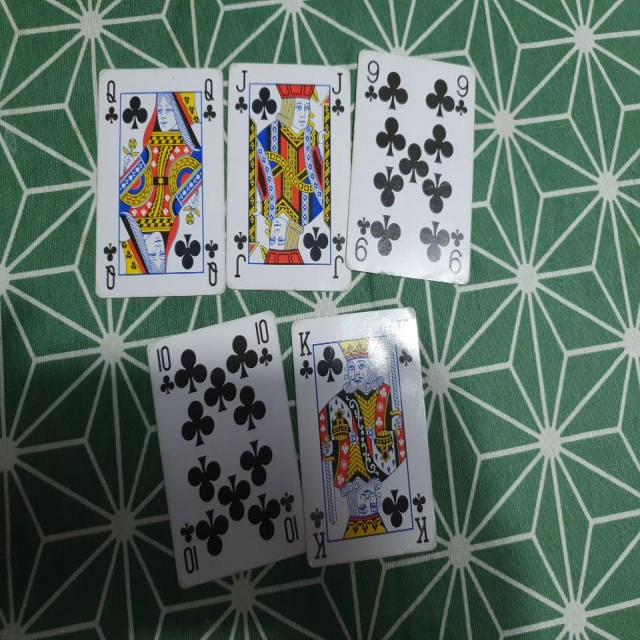10 Trefoils: (144, 308, 309, 588)
9 Trefoils: (343, 48, 474, 285)
J Trefoils: (225, 58, 352, 293)
K Trefoils: (288, 306, 441, 568)
Q Trefoils: (94, 64, 226, 299)
